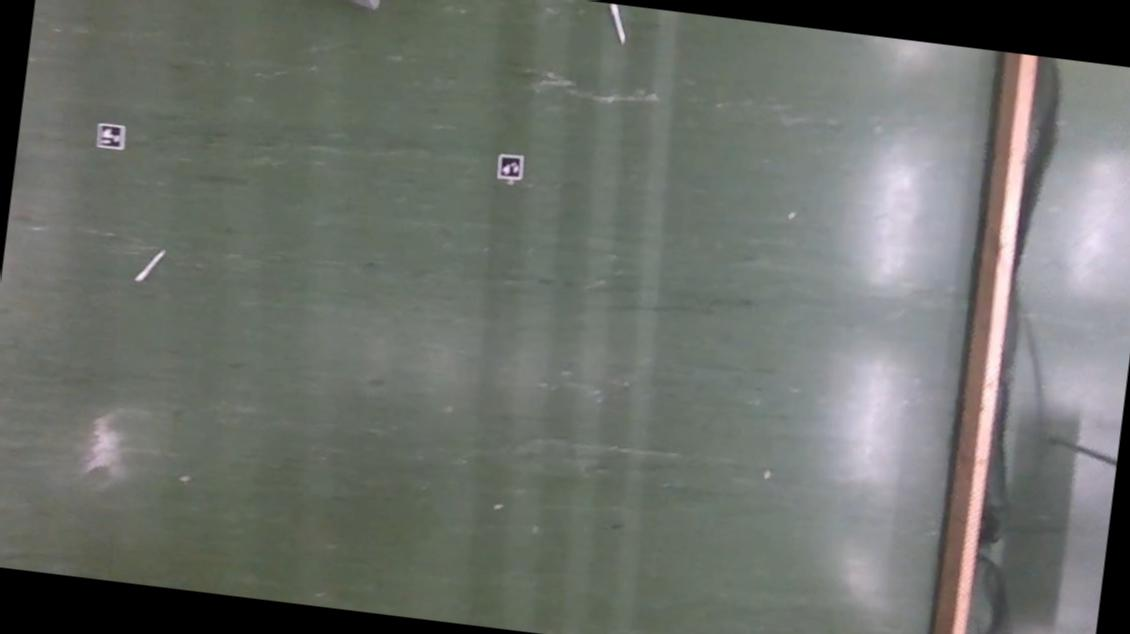probes: (136, 248, 164, 286), (605, 4, 631, 43)
rako: (274, 0, 404, 14)
